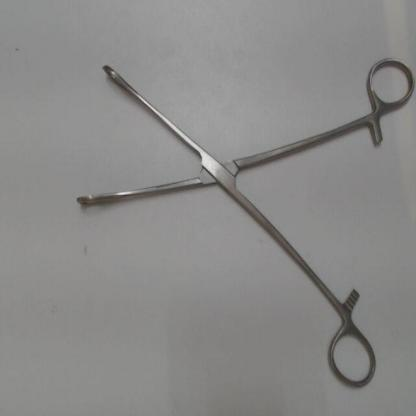Sponge Forceps: (70, 51, 413, 394)
